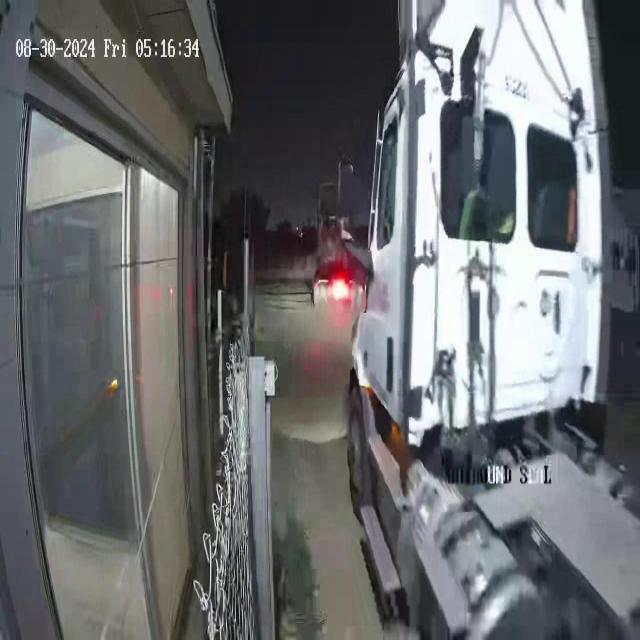TRUCK_OUT: (344, 2, 637, 637)
